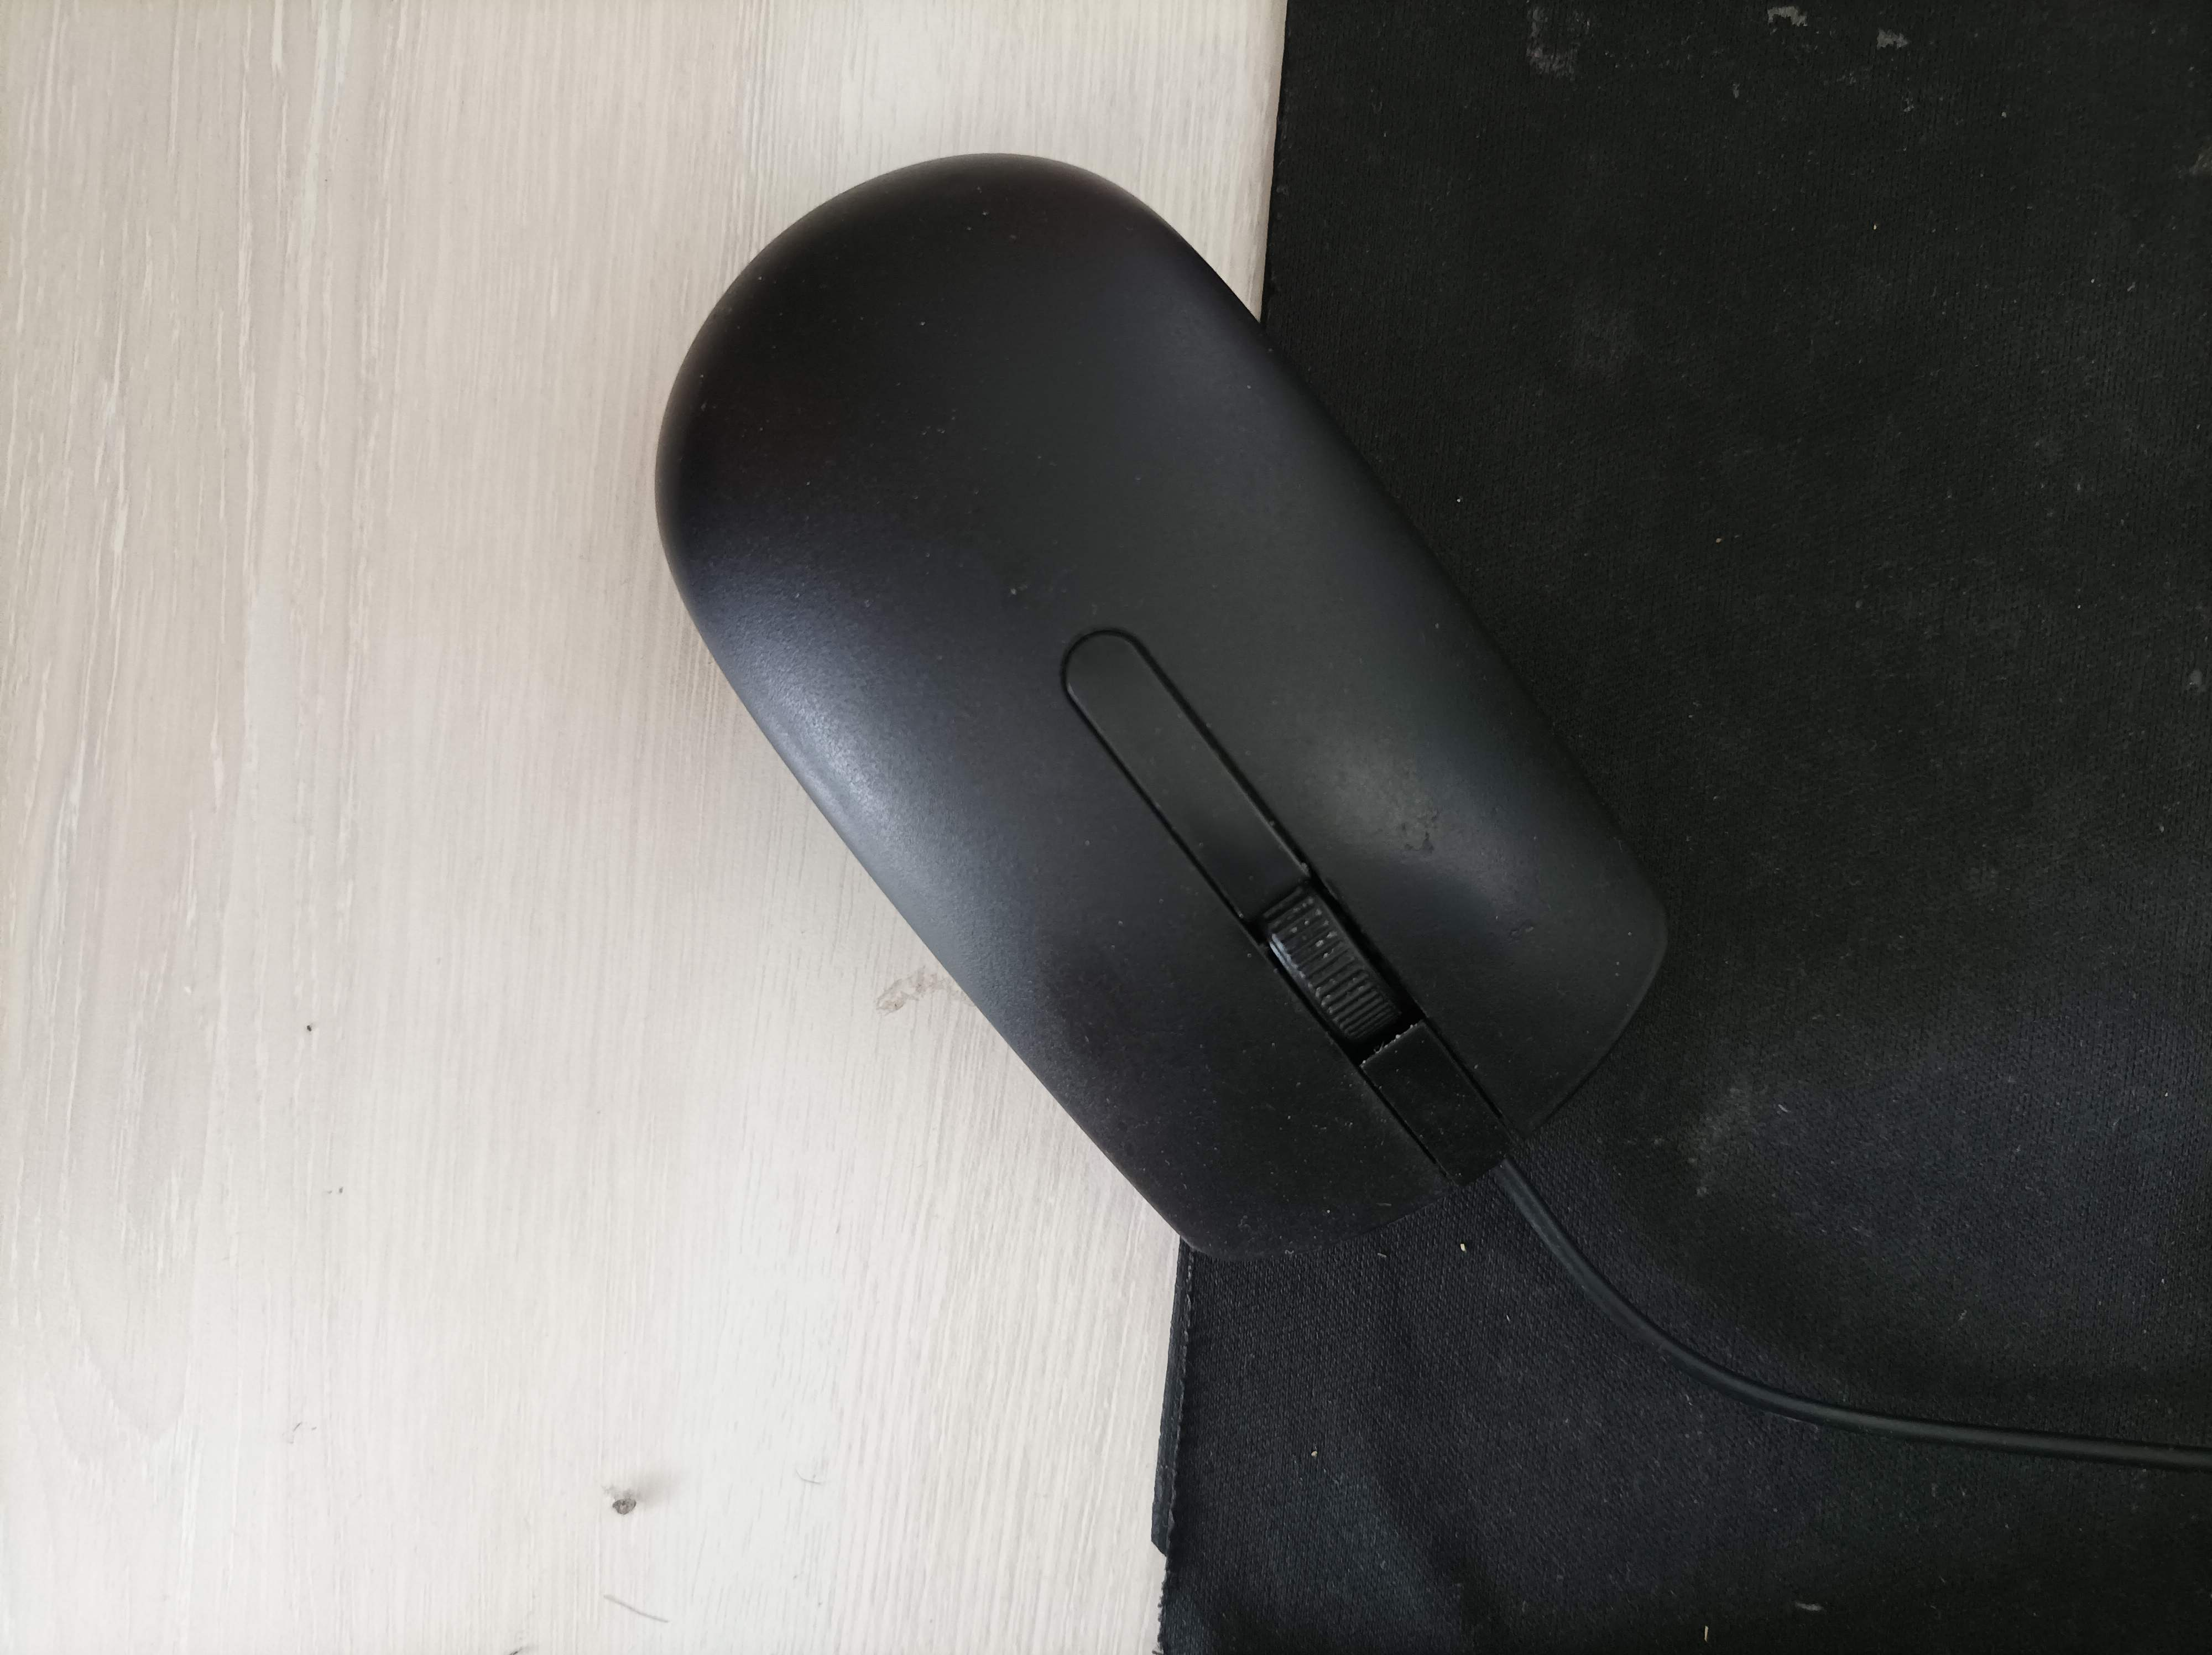mouse: (643, 134, 1682, 1279)
